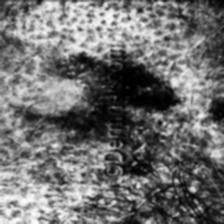Potentially Malignant Skin Tumors: (117, 68, 177, 110)
